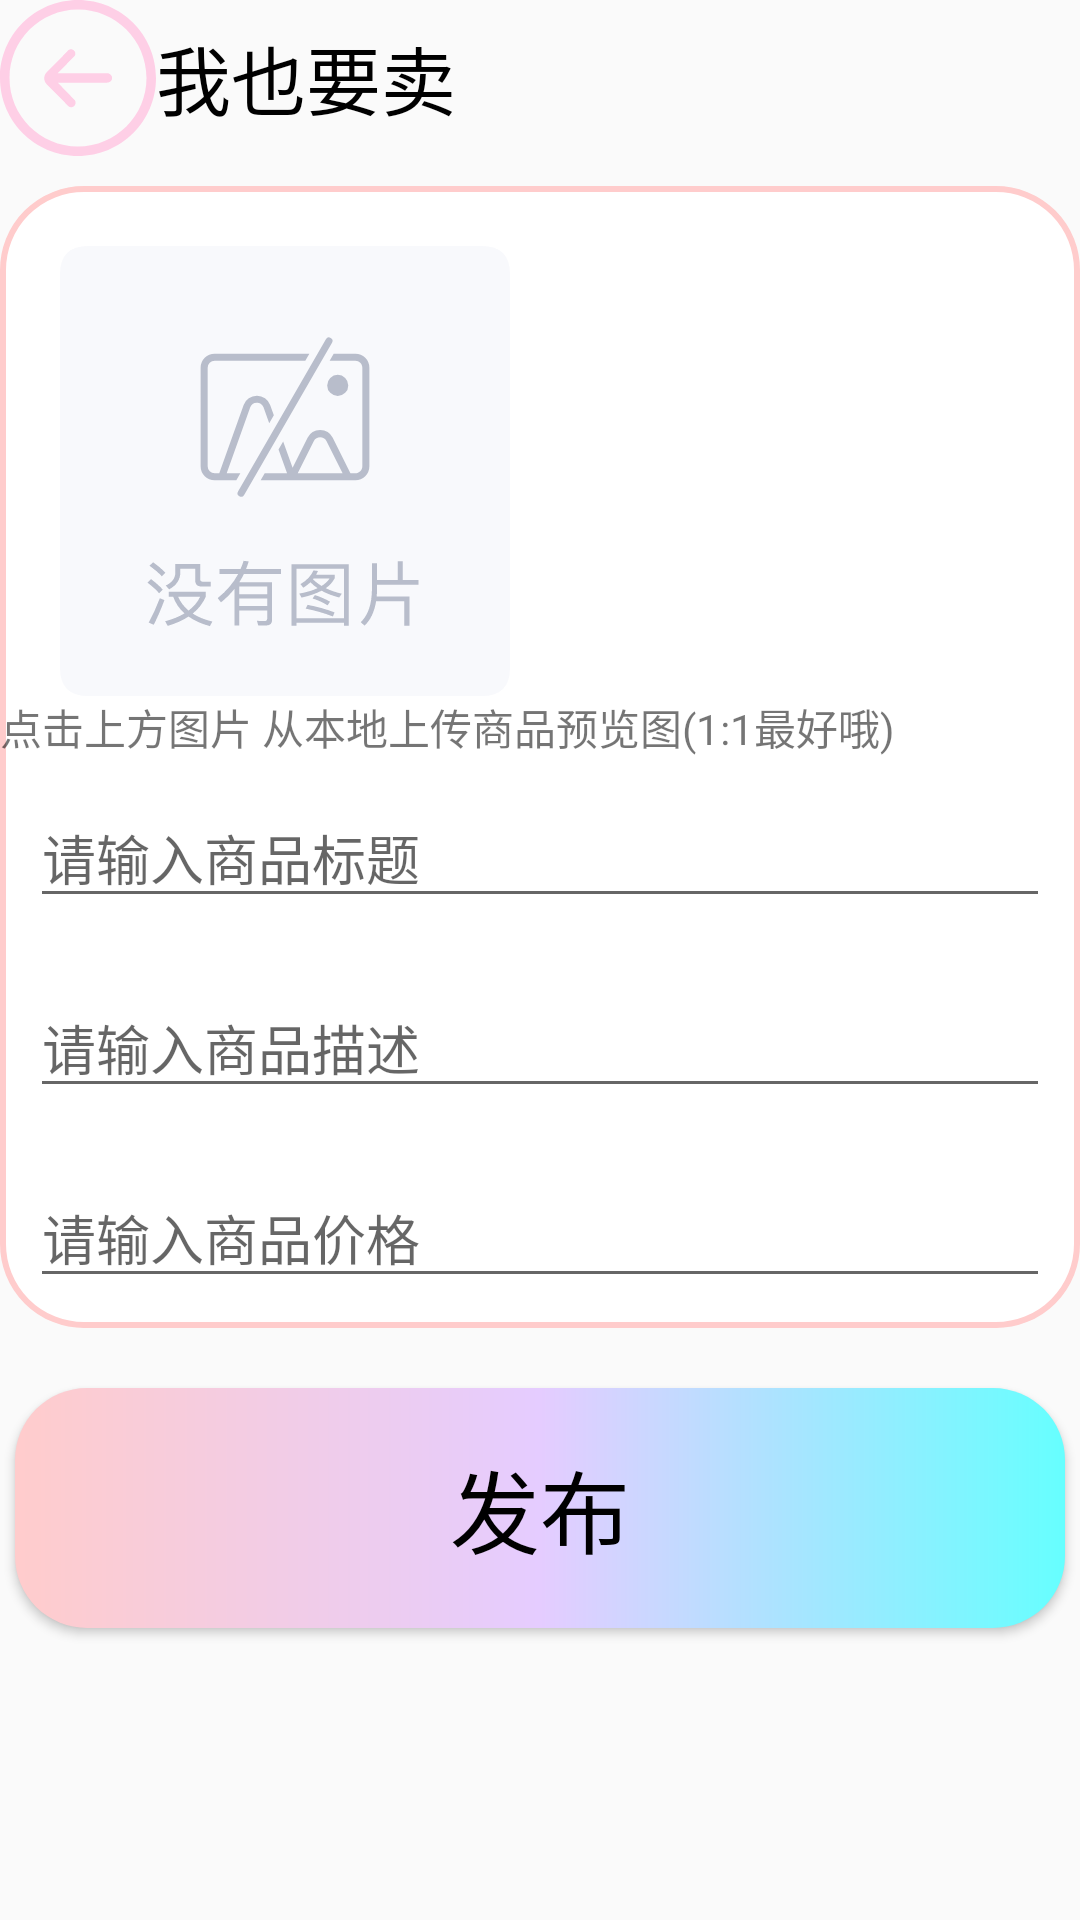

Where to tap for icons on this 1080 × 1920 app screen, as (x=x, y=y):
back: (x=78, y=78)
